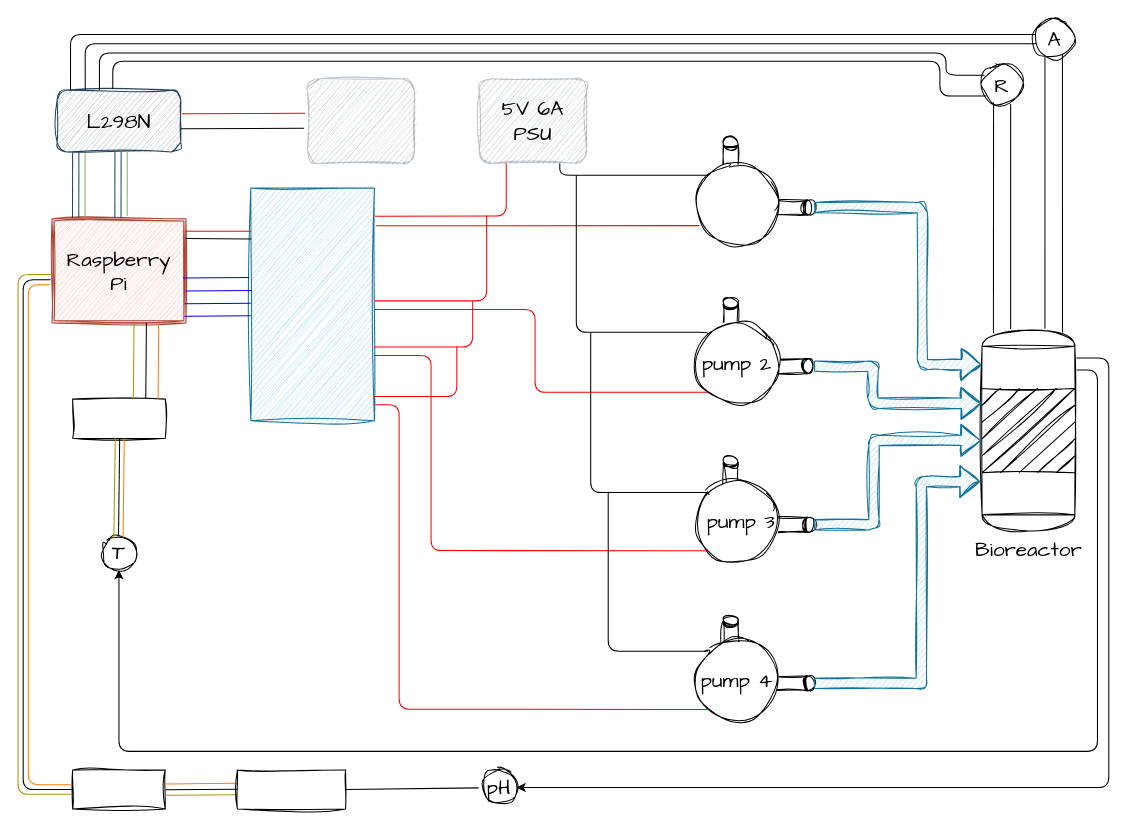
This 1135x828 diagram has some shape labels left out. The shapes that lost their labels are listed below. From the top down, each one's centre as x and y in pixels, then its label:
At pixel 360 120: "12V 0,2A PSU".
At pixel 736 204: "pump 1".
At pixel 312 304: "Relay module".
At pixel 118 418: "DS18B20".
At pixel 118 789: "ADS1115".
At pixel 291 789: "PH-4502C".
